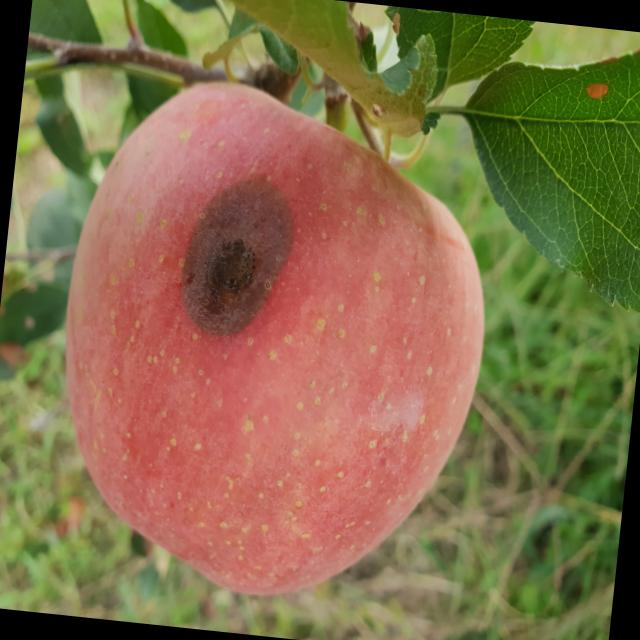rotten: (33, 59, 517, 627)
